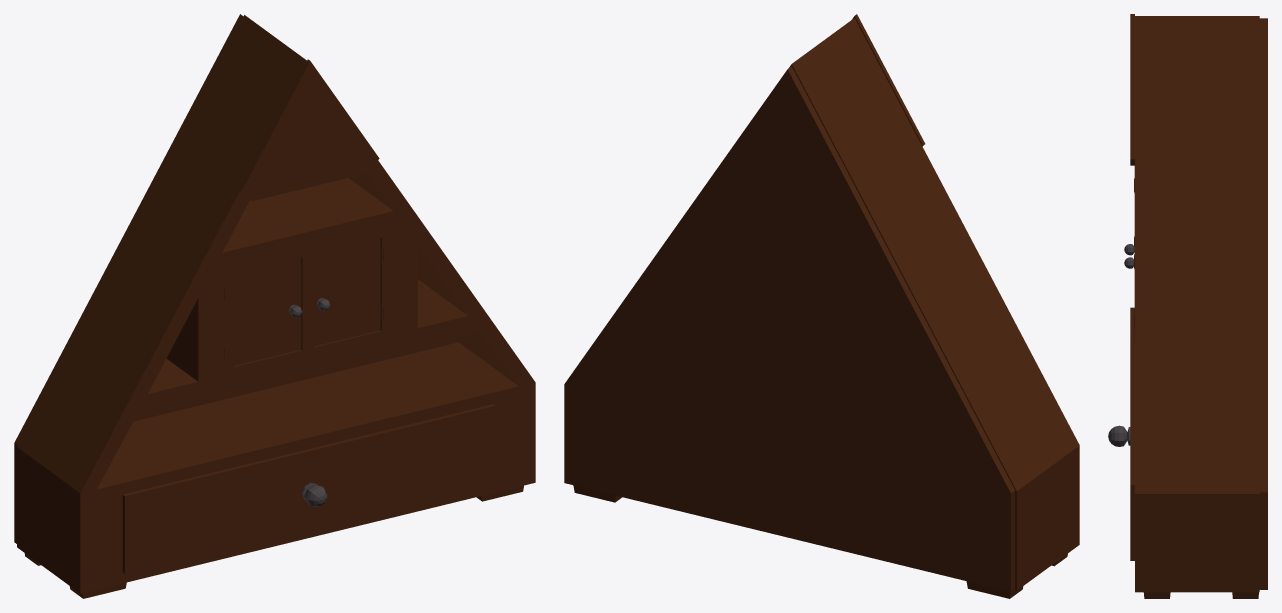
Rendered from EstantePiramide.fbx.
3 views of the same model, side by side, from view 1: azimuth 30°, elevation 25°; view 2: azimuth 150°, elevation 25°; view 3: azimuth 270°, elevation 25° (orthographic). The views are drawn at different scales.
Parts seen in each view (by area): view 1: Armario; view 2: Armario; view 3: Armario.
Boxes of the visible parts, box(x1,y1,x2,y2) form: Armario: box(14, 14, 535, 598); Armario: box(564, 14, 1079, 598); Armario: box(1108, 14, 1267, 598).
Size of the model in its own units: 194 by 200 by 60.19.
